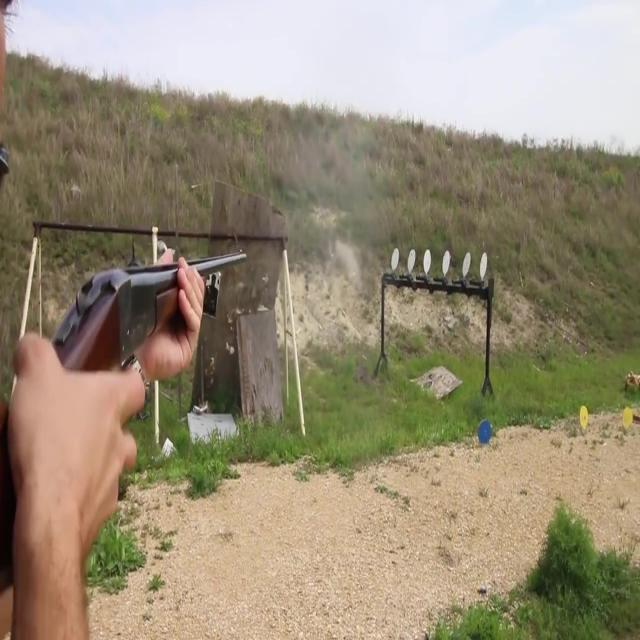Weapon: (7, 235, 302, 522)
